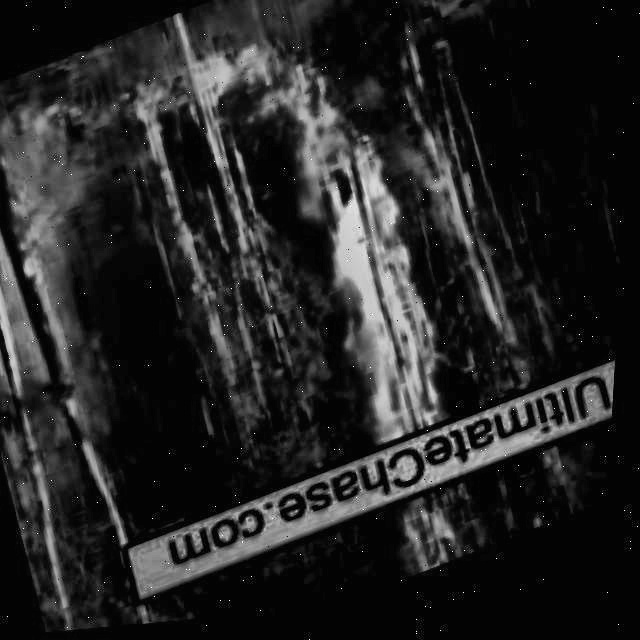Fire: (281, 141, 464, 456), (121, 8, 356, 209), (396, 507, 463, 587)
